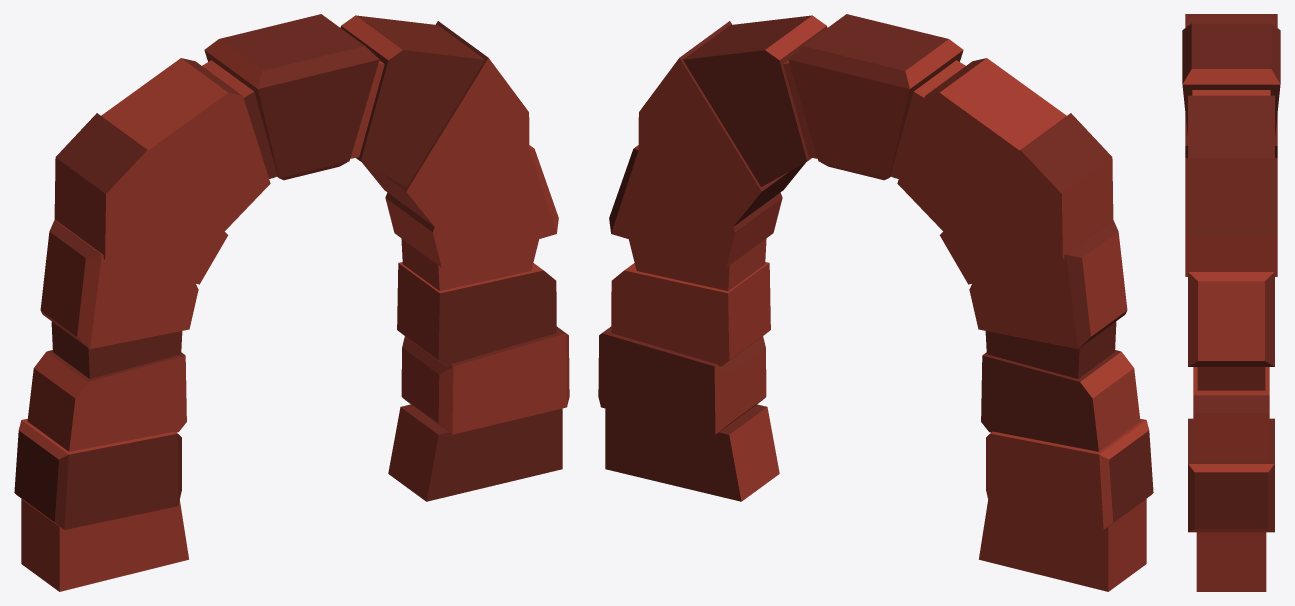
Rendered from Archway_2_Red.fbx.
The picture shows the model from 3 angles, left to right: view 1: azimuth 30°, elevation 25°; view 2: azimuth 150°, elevation 25°; view 3: azimuth 270°, elevation 25°; orthographic projection. The views are drawn at different scales.
Visible parts, largest first — view 1: Archway_2_Red_Part_1, Archway_2_Red_Part_2; view 2: Archway_2_Red_Part_1, Archway_2_Red_Part_2; view 3: Archway_2_Red_Part_2, Archway_2_Red_Part_1.
Boxes of the visible parts, box(x1,y1,x2,y2) form: Archway_2_Red_Part_1: box(16, 15, 569, 591); Archway_2_Red_Part_2: box(14, 14, 565, 529); Archway_2_Red_Part_1: box(611, 15, 1151, 591); Archway_2_Red_Part_2: box(598, 14, 1153, 526); Archway_2_Red_Part_2: box(1182, 14, 1280, 531); Archway_2_Red_Part_1: box(1182, 17, 1280, 591).
Size of the model in its own units: 496 by 436 by 89.46.
